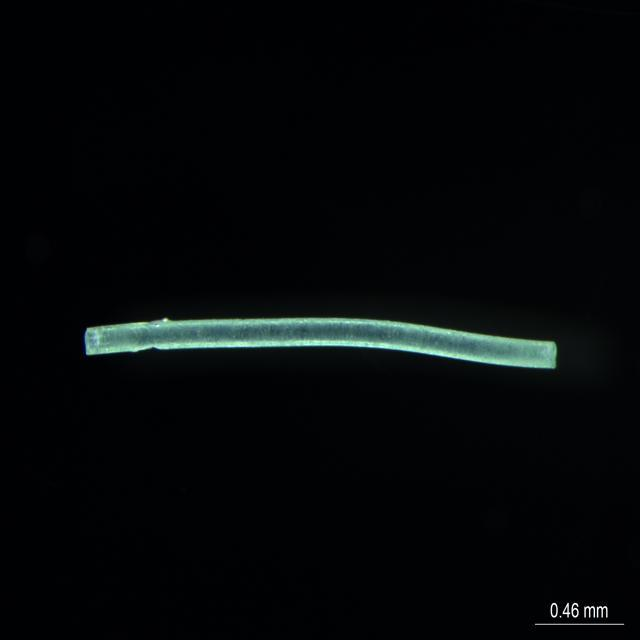fibers: (84, 314, 558, 369)
